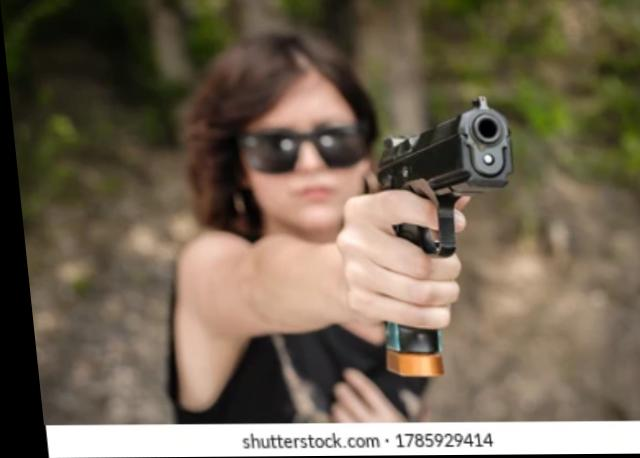other: (137, 43, 459, 420)
